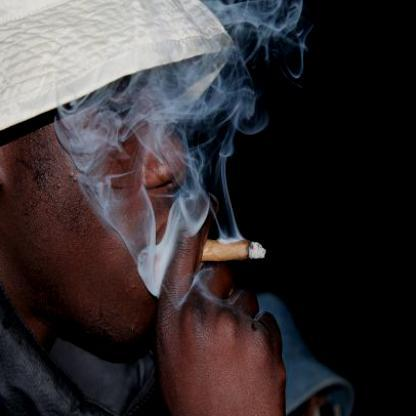cigarette: (194, 235, 266, 262)
smoke: (66, 80, 242, 165), (175, 61, 238, 234), (206, 0, 310, 71)
